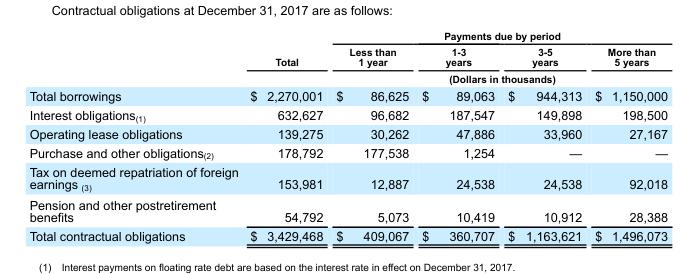table: (28, 29, 667, 242)
table column: (28, 29, 243, 242), (500, 29, 587, 242), (328, 29, 414, 242), (414, 29, 500, 242), (243, 29, 328, 242), (587, 29, 667, 242)
table column header: (28, 29, 667, 86)
table row: (28, 162, 667, 194), (28, 194, 667, 226), (28, 43, 667, 69), (28, 142, 667, 162), (28, 86, 667, 105), (28, 105, 667, 124), (28, 124, 667, 142), (28, 69, 667, 86), (28, 226, 667, 242), (28, 29, 667, 43)
table spanning cell: (328, 69, 667, 86), (243, 29, 328, 86), (328, 29, 667, 43)
